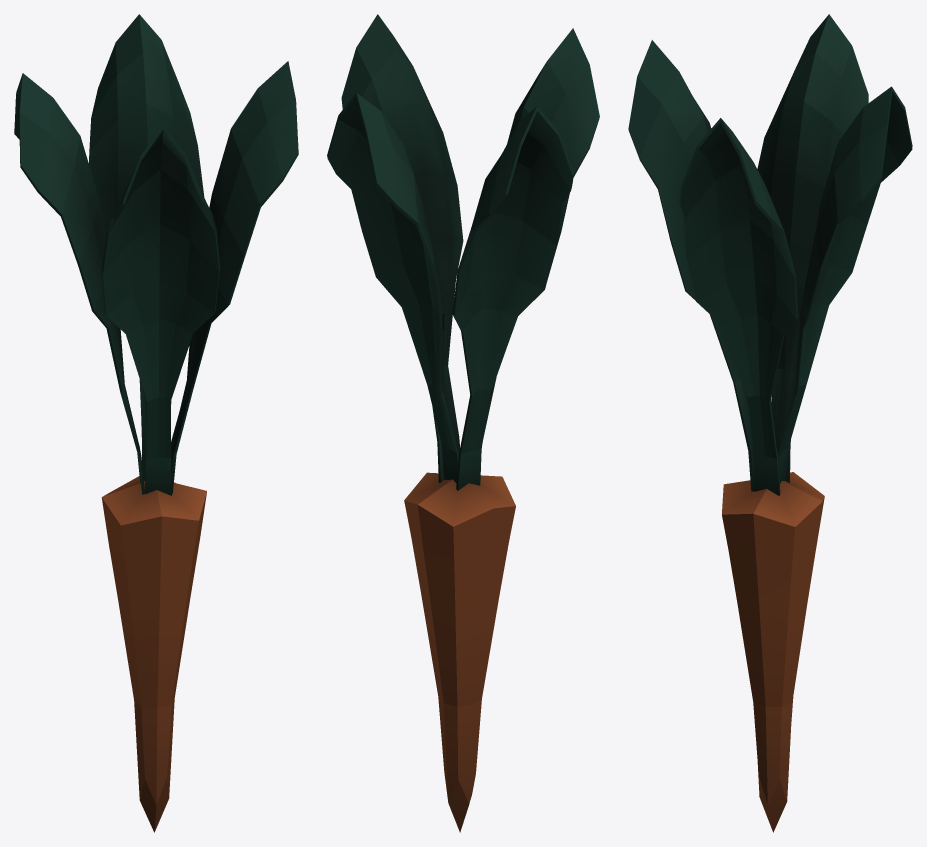
Rendered from pq_carotte_f.glb.
3 views of the same model, side by side, from view 1: azimuth 30°, elevation 25°; view 2: azimuth 150°, elevation 25°; view 3: azimuth 270°, elevation 25° (orthographic).
Parts seen in each view (by area): view 1: Carrot; view 2: Carrot; view 3: Carrot.
Boxes of the visible parts, bbox=[...] form: Carrot: bbox=[14, 14, 298, 832]; Carrot: bbox=[327, 14, 599, 832]; Carrot: bbox=[628, 14, 912, 832].
Bounding box in the file's own units: 0.0682 × 0.2001 × 0.0671.
